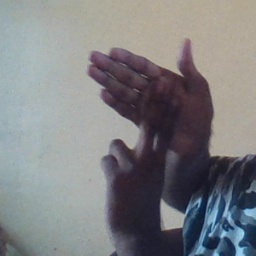N: (85, 29, 217, 196)
